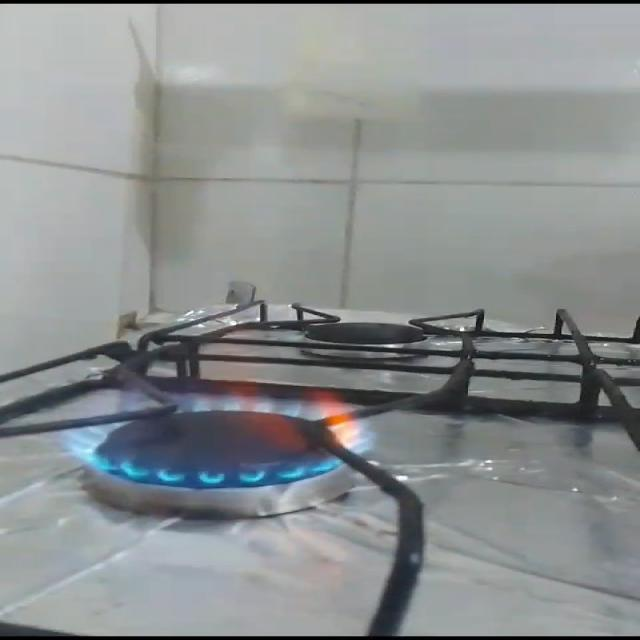fogo-ypXI: (44, 328, 376, 487)
